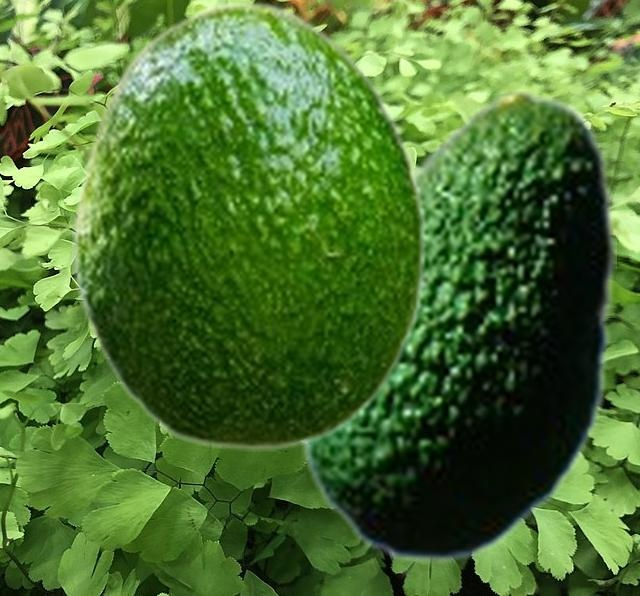avocado: (72, 0, 427, 450), (291, 89, 615, 563)
